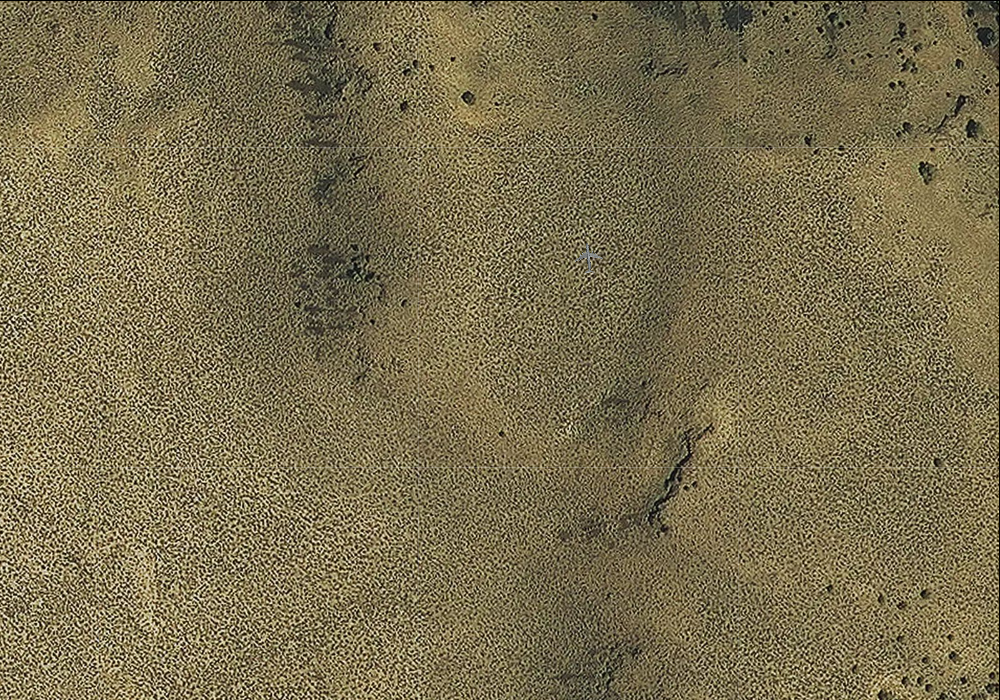plane: (571, 241, 604, 275)
